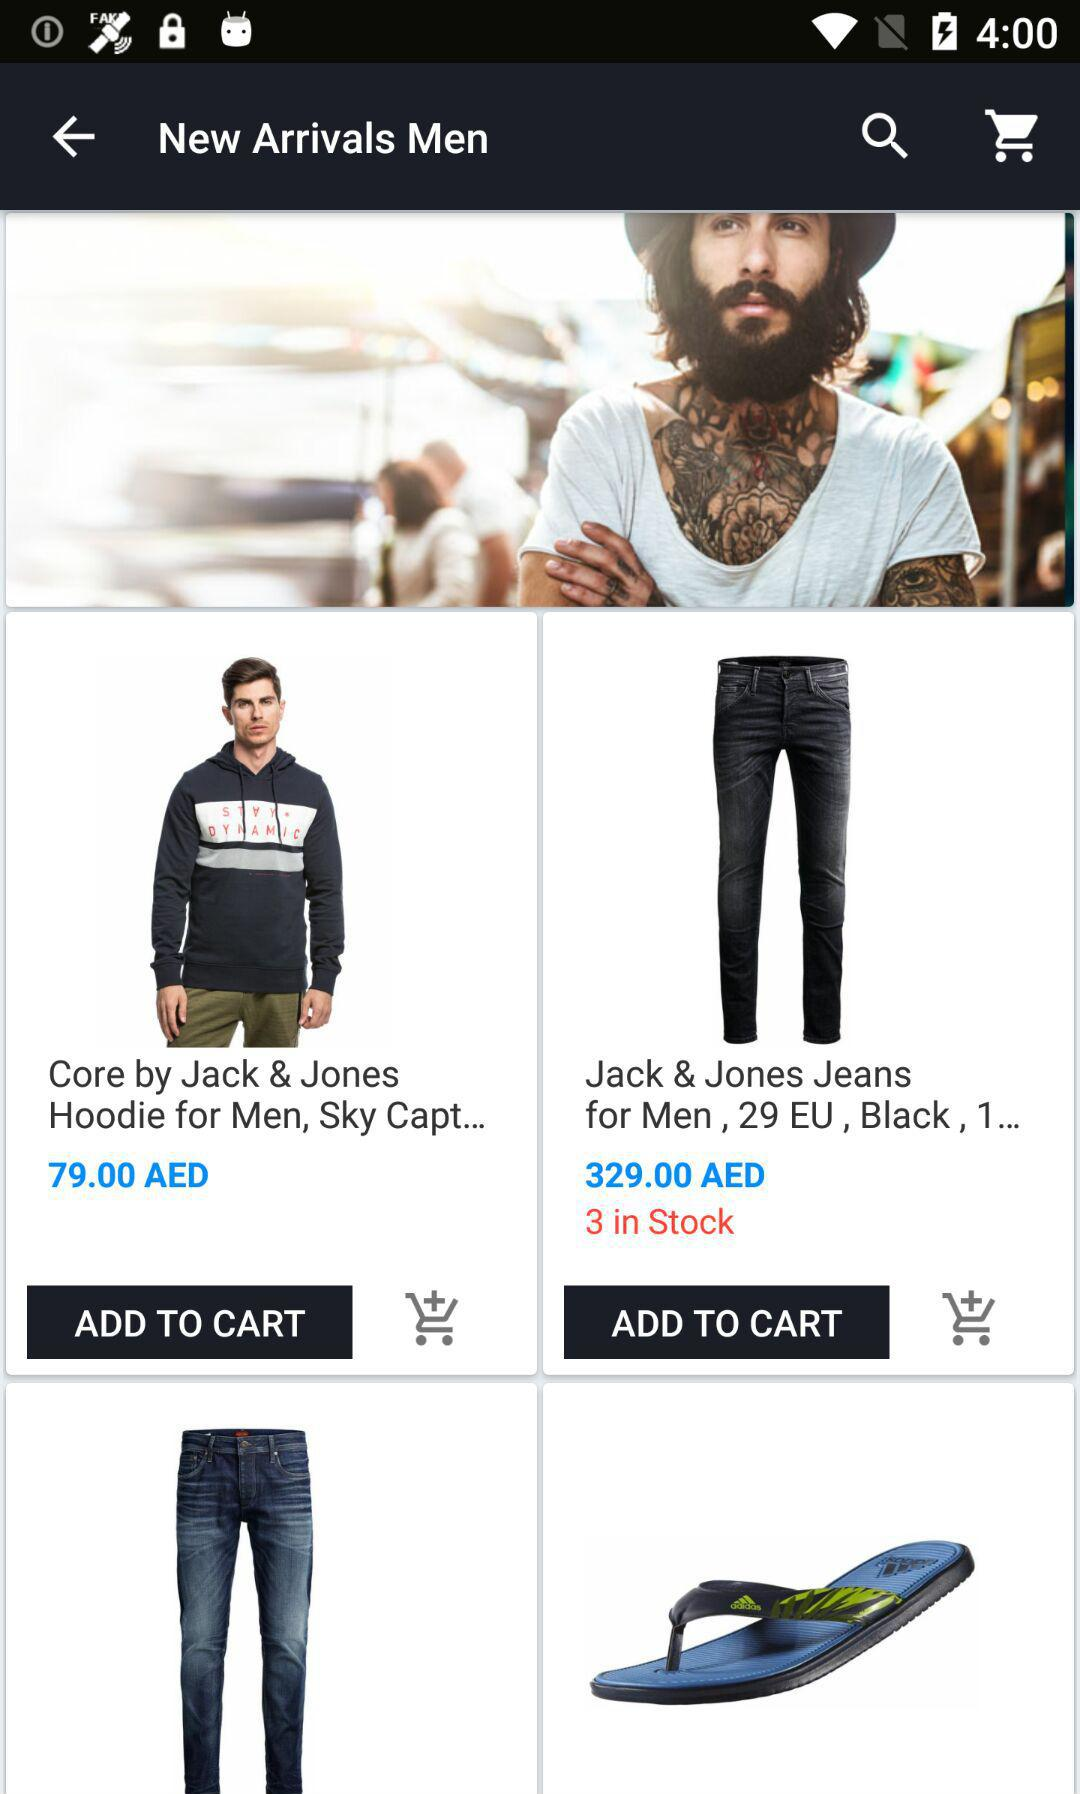Icon: (984, 109, 1039, 164), (942, 1290, 995, 1347), (406, 1289, 460, 1345), (861, 111, 910, 161), (53, 115, 97, 160)
Image: (6, 213, 1075, 607), (150, 656, 347, 1048), (589, 1539, 976, 1707), (712, 656, 852, 1046), (176, 1428, 315, 1794)
Text: (49, 1058, 486, 1137), (585, 1058, 1020, 1134), (160, 122, 488, 156), (585, 1161, 765, 1189), (49, 1161, 209, 1189), (585, 1207, 735, 1235)
TextButton: (564, 1285, 890, 1360), (27, 1285, 354, 1360)
Toolbar: (1, 67, 1080, 205)
UpperTaskBar: (1, 1, 1080, 64)
